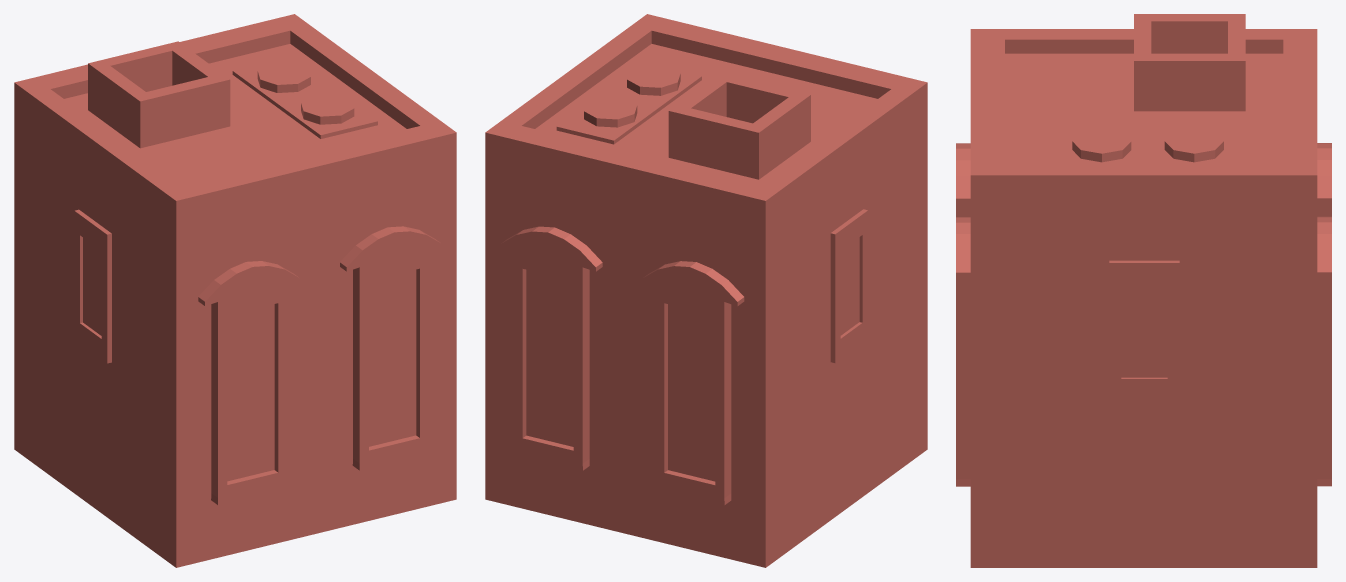
File: HouseRoof.fbx
3 views of the same model, side by side, from view 1: azimuth 30°, elevation 25°; view 2: azimuth 150°, elevation 25°; view 3: azimuth 270°, elevation 25° (orthographic). The views are drawn at different scales.
Parts seen in each view (by area): view 1: House_Roof; view 2: House_Roof; view 3: House_Roof.
Part boxes in pixels (x1,y1,x2,y2): House_Roof: [14, 14, 456, 567]; House_Roof: [485, 14, 927, 567]; House_Roof: [956, 14, 1331, 567].
Bounding box in the file's own units: 82.67 × 109 × 86.75.
